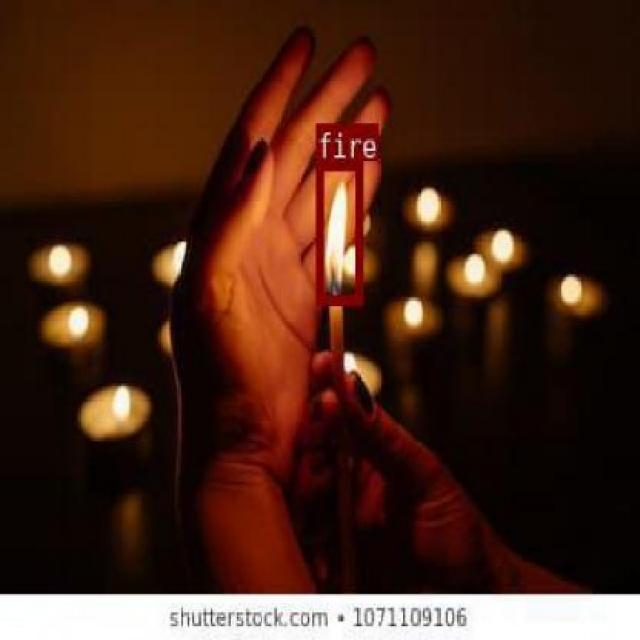Fire: (324, 172, 353, 297)
